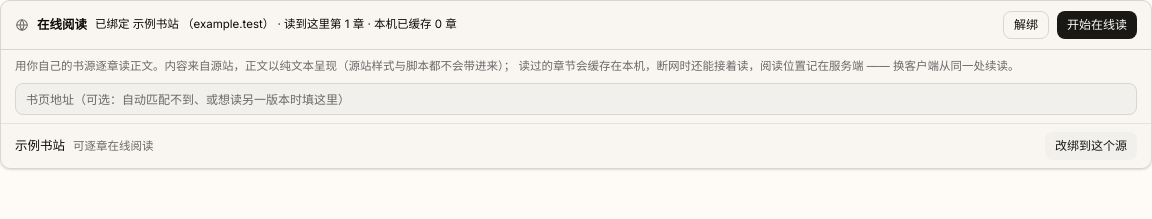
Test: OnlineReadCard · 已绑定态（第 93 期） › 解绑只删登记，并如实说明缓存留着
Click the button "解绑".
click(1026, 25)  # box [1003,11,1049,39]
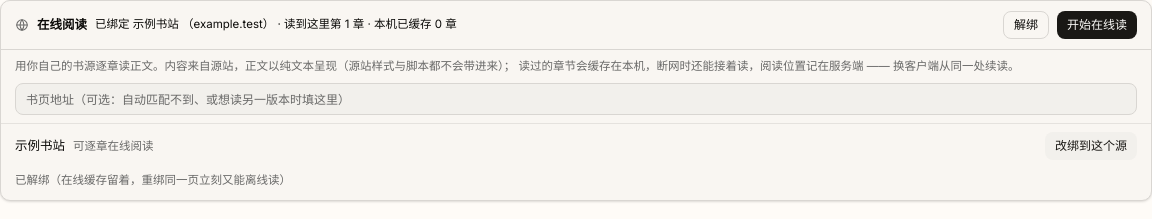
Result: the text "缓存留着" is shown at [15,173,291,187]
